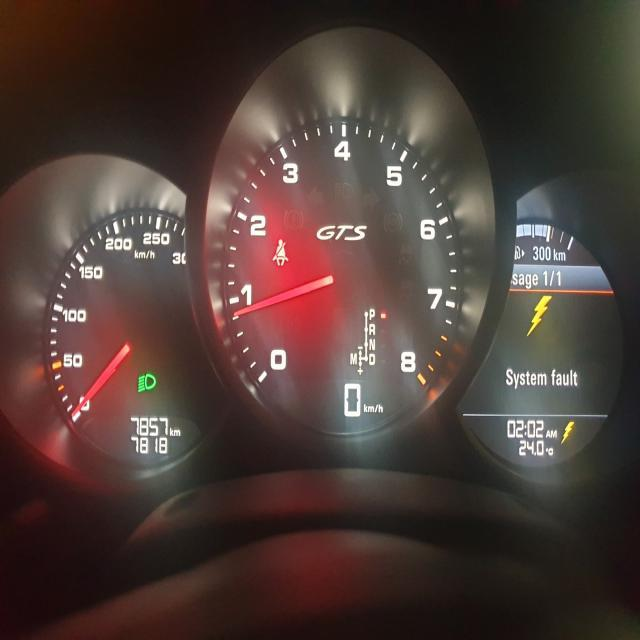Low beam: (136, 371, 156, 394)
